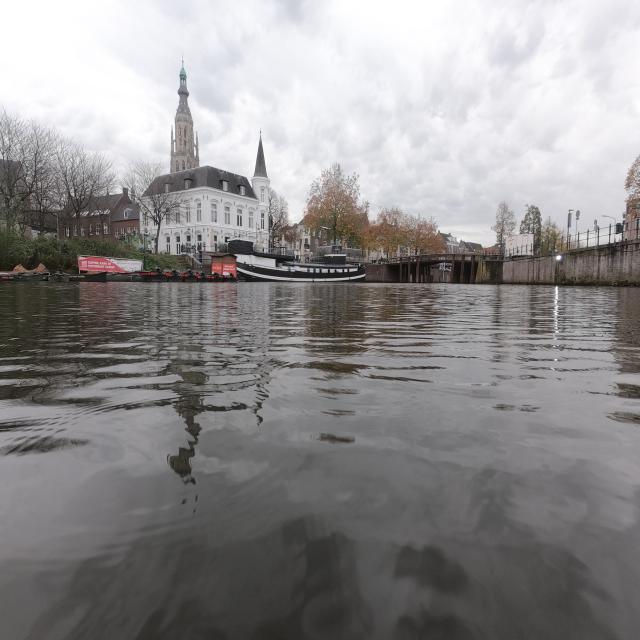boat: (248, 260, 366, 280)
sky: (168, 4, 638, 246), (6, 4, 174, 212)
tree: (0, 107, 116, 234), (305, 162, 360, 239), (369, 207, 444, 257)
wall: (496, 238, 638, 286)
water: (8, 288, 634, 634)
